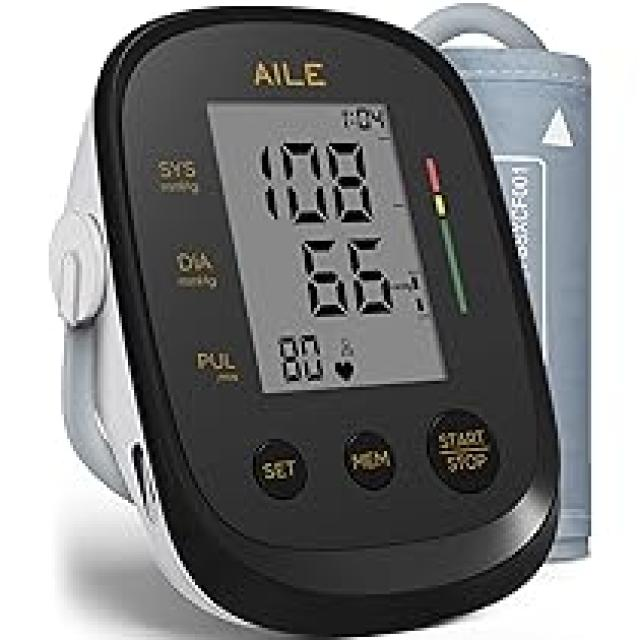dia: (294, 227, 404, 322)
pul: (266, 325, 333, 390)
ssd: (200, 65, 447, 421)
sys: (250, 135, 381, 226)
